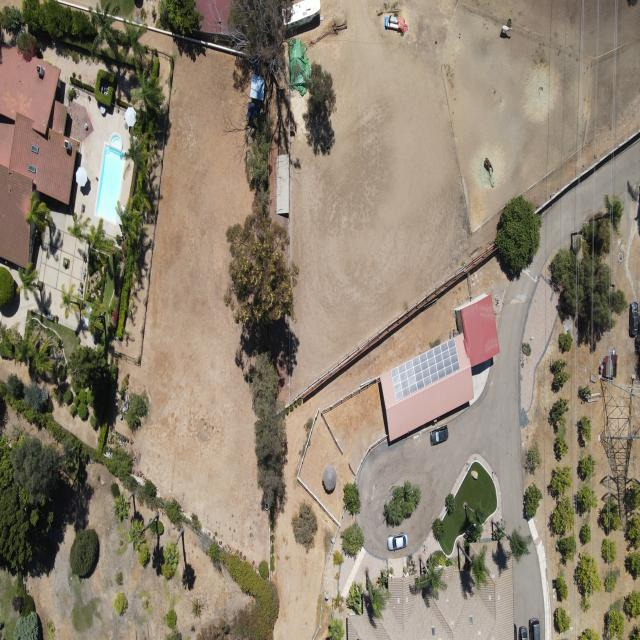solar-panels: (382, 338, 468, 401)
